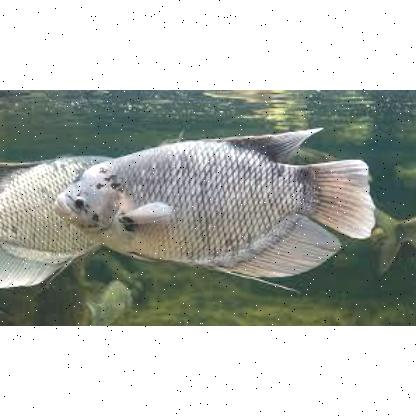gurame: (53, 125, 368, 291), (0, 145, 116, 285)
